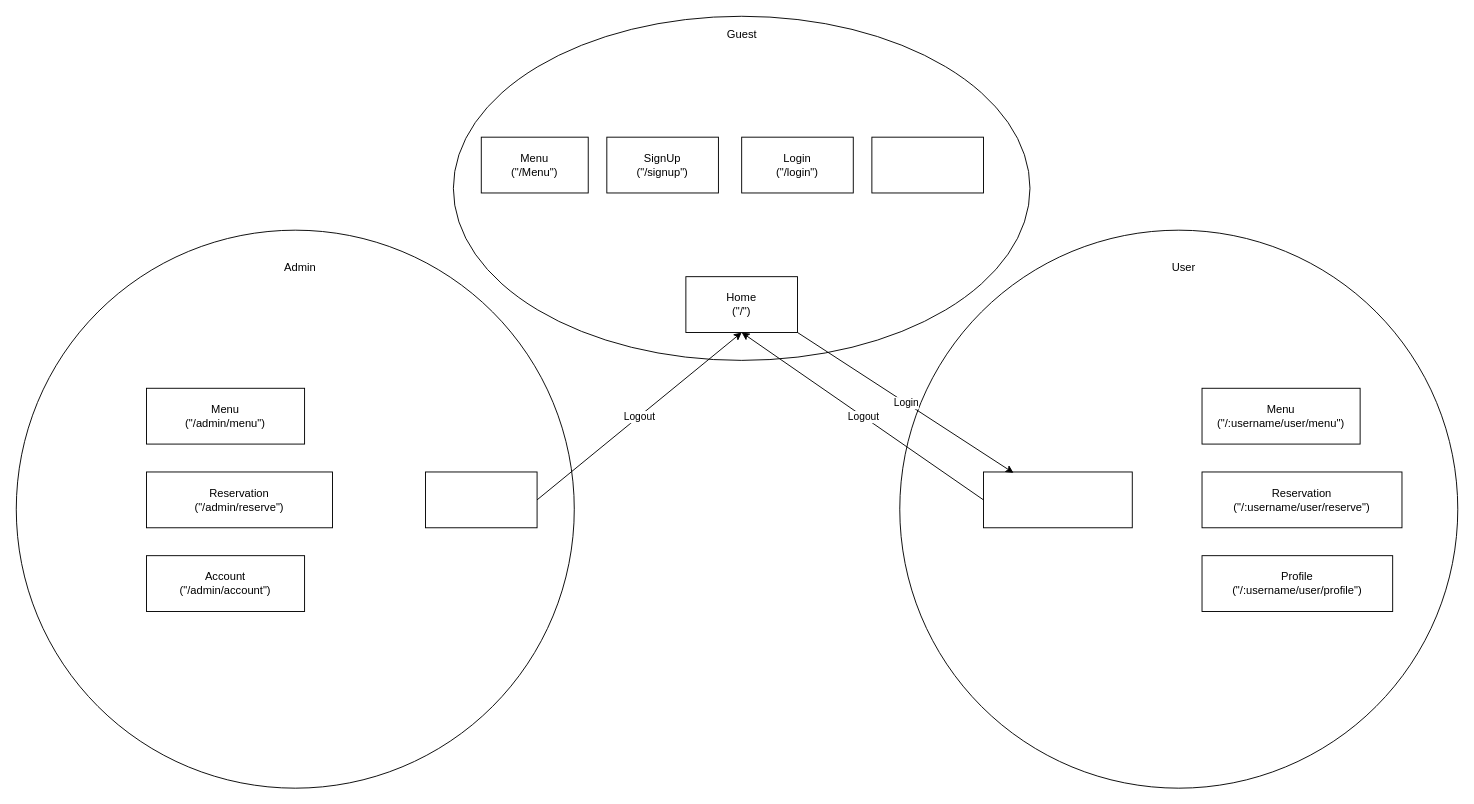
Some shapes in this 1474 by 804 pixel diagram are drawn without their labels. The centre of each missing label's shape, as x and y in pixels:
Home ("/:username/user"): (1057,499)
Home ("/Admin"): (481,499)
